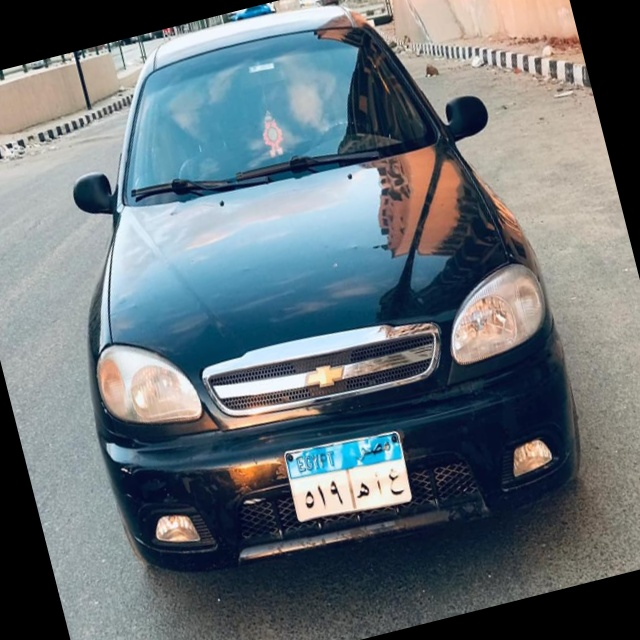License Plate: (279, 421, 419, 533)
